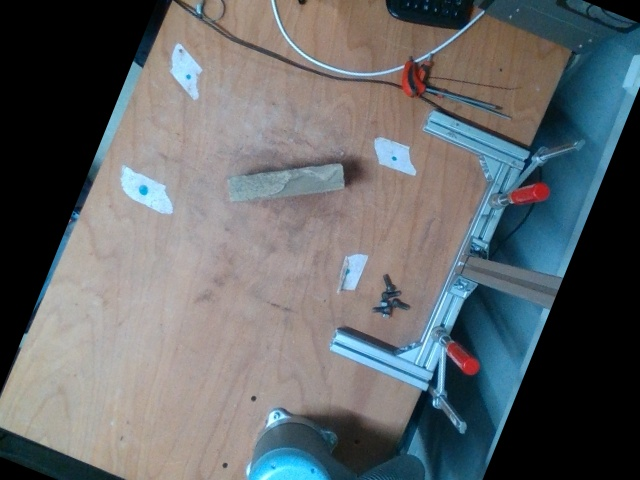brick-side: (227, 164, 345, 198)
